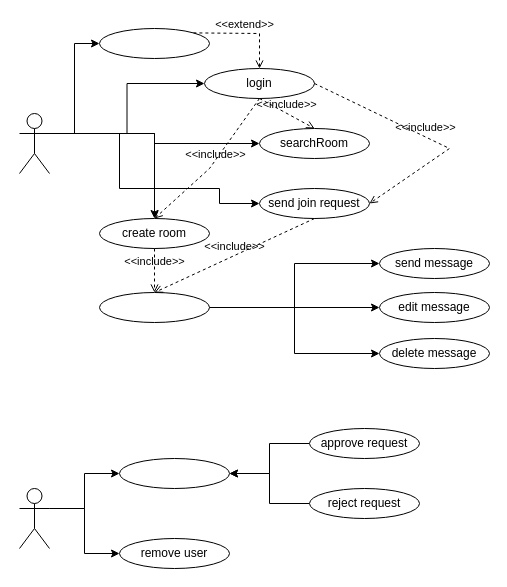
This 507x587 diagram has some shape labels left out. The shapes that lost their labels are listed below. From the top down, each one's centre as x and y in pixels, then its label:
pixel 154 43: register
pixel 34 143: User
pixel 154 307: enter chat room
pixel 174 473: request
pixel 34 518: Admin
